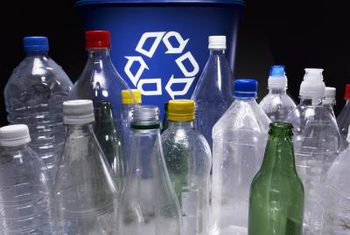Rec_Plastic: (1, 31, 81, 168), (106, 101, 186, 232), (43, 94, 119, 229), (284, 63, 346, 228), (210, 75, 273, 229), (156, 96, 211, 231), (243, 123, 307, 233), (71, 29, 140, 129), (1, 122, 61, 233), (195, 31, 237, 135)
